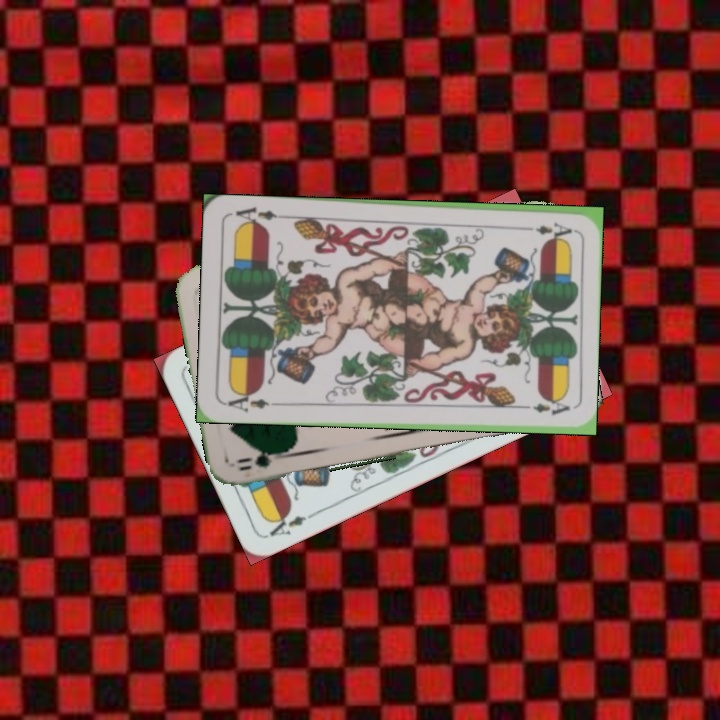EA: (265, 507, 319, 540), (222, 388, 281, 414), (517, 218, 574, 239)
GO: (233, 447, 291, 474)
